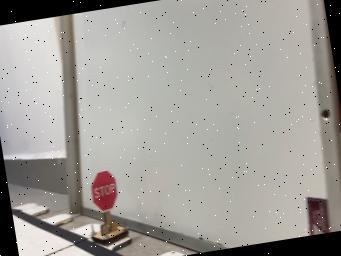stop: (91, 170, 126, 246), (91, 170, 126, 246), (91, 170, 126, 246)
street: (11, 209, 123, 256), (11, 209, 123, 256), (11, 209, 123, 256)
